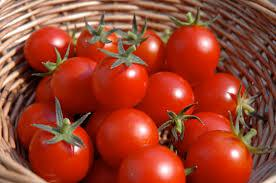tomato: (30, 120, 91, 180), (93, 110, 157, 165), (185, 129, 254, 178), (169, 23, 220, 88), (93, 55, 147, 110), (141, 71, 193, 125), (51, 57, 98, 112), (201, 74, 250, 123), (122, 146, 186, 181), (176, 112, 235, 148), (17, 102, 64, 147), (120, 30, 169, 72), (26, 26, 72, 69), (79, 26, 120, 65)
